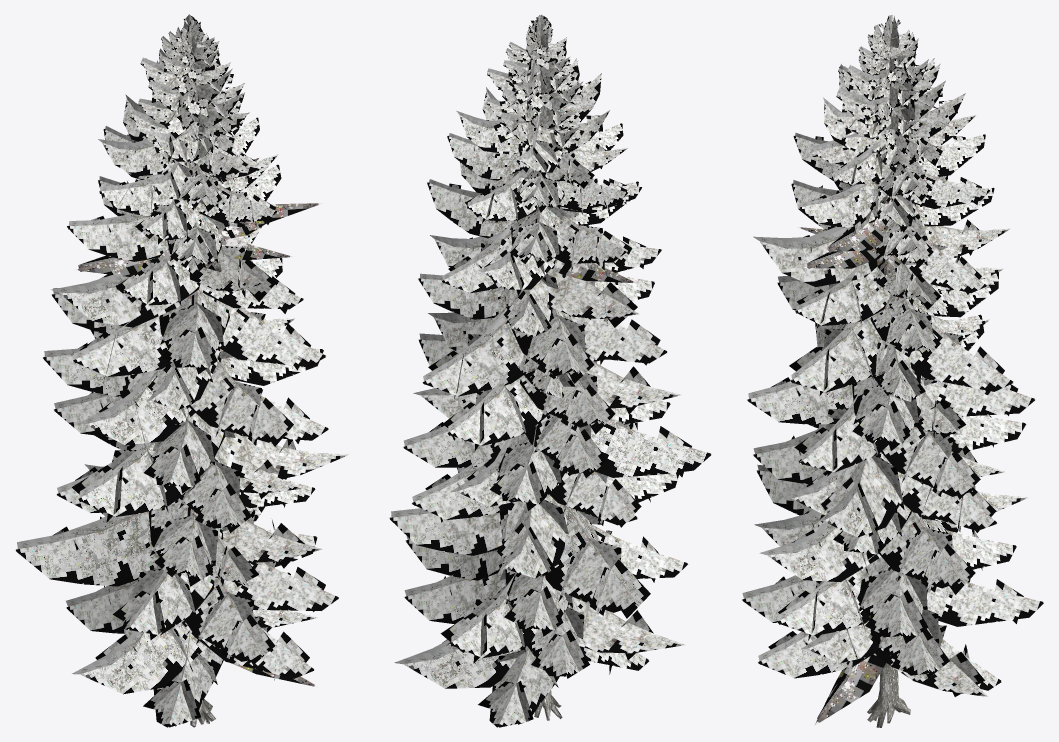
The model's file is arctic-pine-a-close.glb.
3 views of the same model, side by side, from view 1: azimuth 30°, elevation 25°; view 2: azimuth 150°, elevation 25°; view 3: azimuth 270°, elevation 25° (orthographic).
Visible parts, largest first — view 1: pine_a_snow_LOD0; view 2: pine_a_snow_LOD0; view 3: pine_a_snow_LOD0.
Part boxes in pixels (<box>): pine_a_snow_LOD0: <box>15,14,349,727</box>; pine_a_snow_LOD0: <box>388,14,711,727</box>; pine_a_snow_LOD0: <box>741,15,1044,727</box>.
Size of the model in its own units: 19.54 by 47.91 by 18.66.
Materials: 1 (1 with a texture image).
